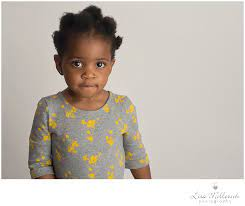person: (50, 3, 123, 101)
